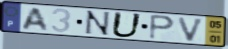3: (50, 8, 75, 35)
A: (20, 7, 50, 32)
N: (82, 10, 111, 37)
P: (148, 13, 177, 41)
U: (110, 11, 145, 39)
V: (176, 16, 206, 43)
